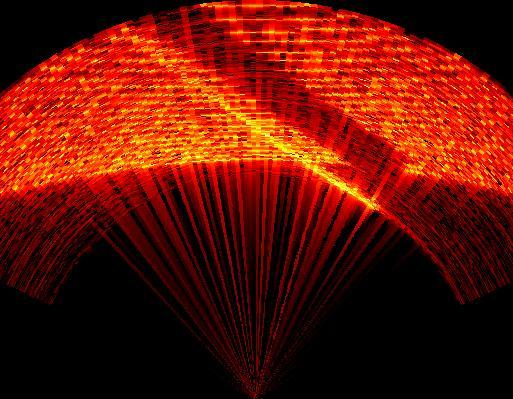pipe: (138, 4, 410, 194)
